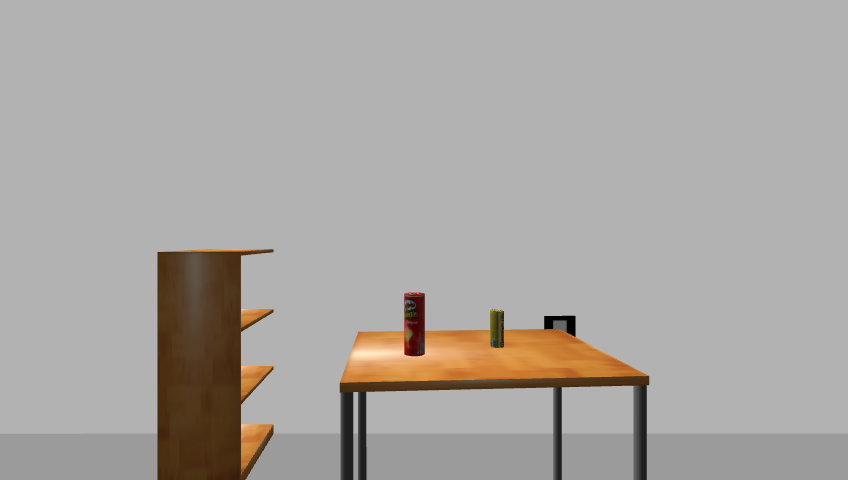aruco marker: (540, 315, 580, 342)
biscuits pack: (489, 308, 506, 349)
bookshelf: (152, 247, 282, 480)
dinner table: (333, 328, 657, 480)
pringles can: (401, 291, 427, 358)
